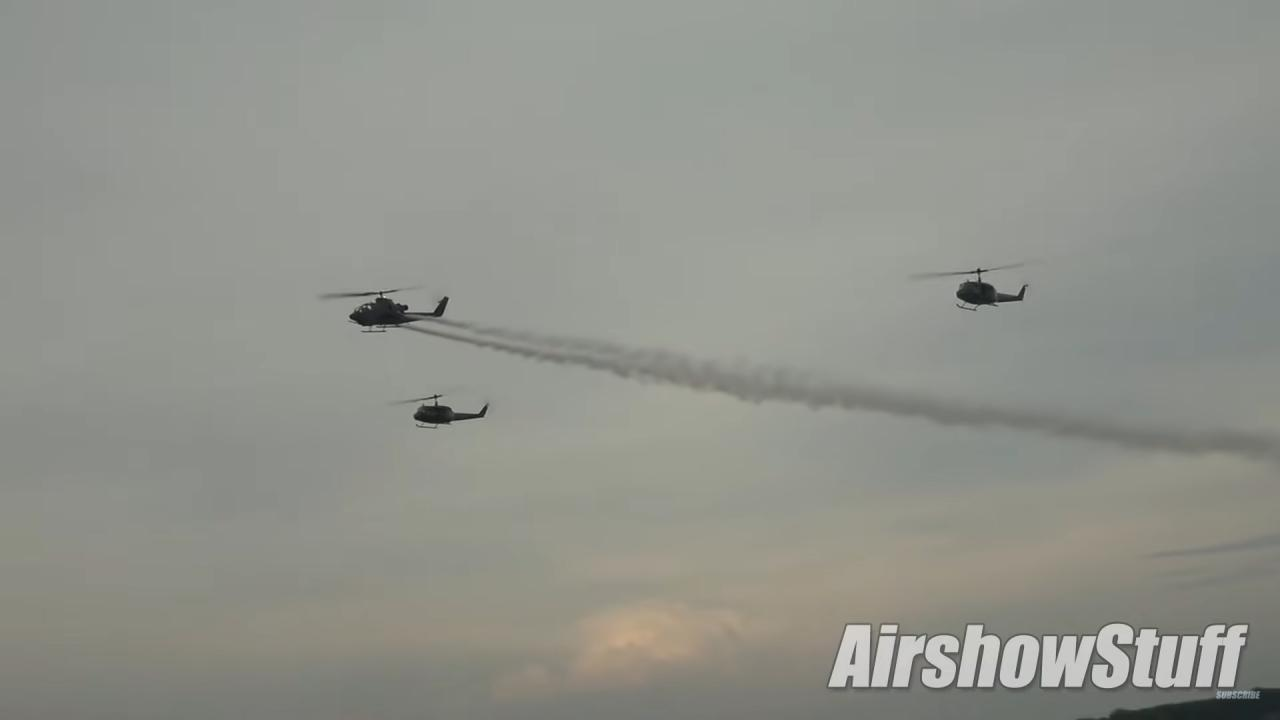Helicopter: (302, 262, 474, 357), (895, 239, 1062, 334), (373, 374, 511, 456)
